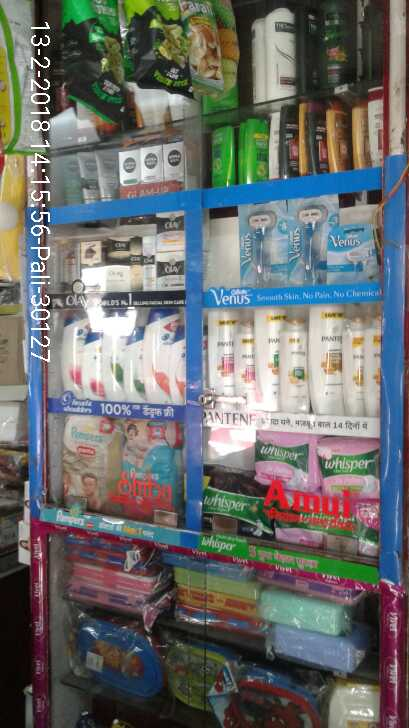venus: (239, 204, 283, 288), (326, 224, 382, 288), (290, 194, 323, 284)
